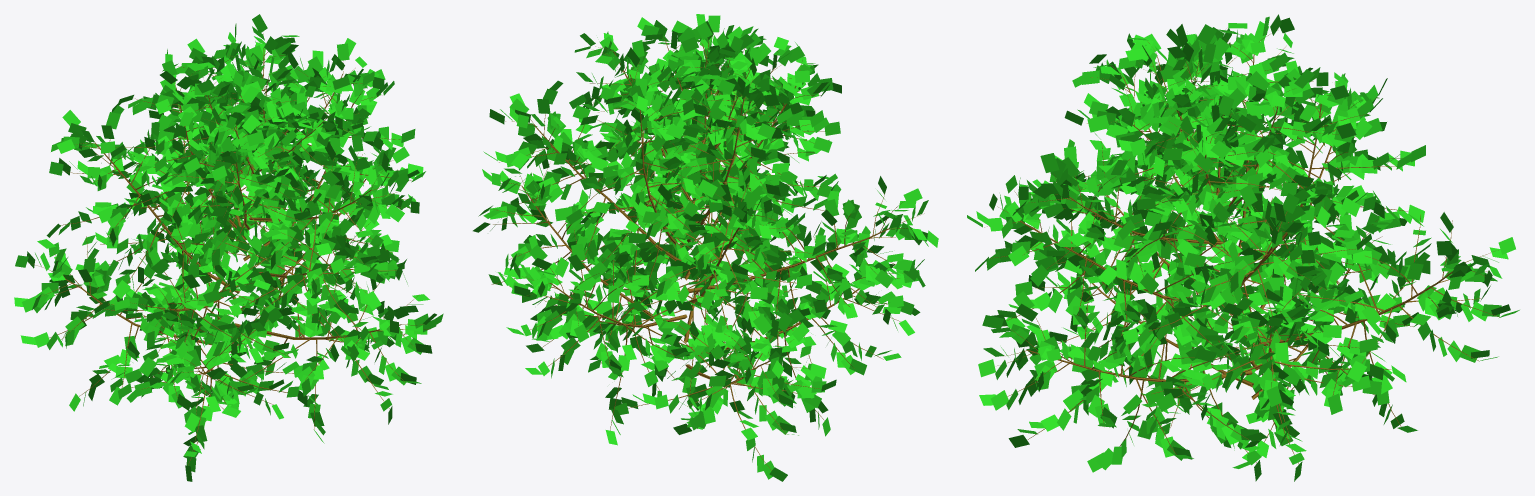
File: bush.gltf
3 renders of one model, left to right at view 1: azimuth 30°, elevation 25°; view 2: azimuth 150°, elevation 25°; view 3: azimuth 270°, elevation 25°, orthographic. The views are drawn at different scales.
Visible parts, largest first — view 1: Foliage001, Foliage002; view 2: Foliage001, Foliage002; view 3: Foliage001, Foliage002.
Part boxes in pixels (x1,y1,x2,y2): Foliage001: [14, 14, 443, 481]; Foliage002: [29, 33, 430, 465]; Foliage001: [473, 14, 938, 481]; Foliage002: [488, 36, 924, 470]; Foliage001: [967, 14, 1519, 481]; Foliage002: [984, 34, 1499, 463].
Bounding box in the file's own units: 7.18 × 7.24 × 7.93.
